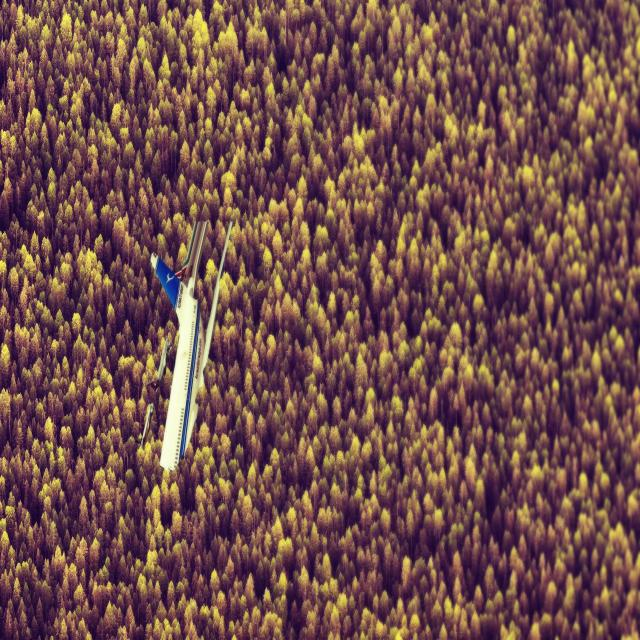airplane: (140, 218, 233, 474), (147, 336, 170, 391), (139, 400, 153, 448)
